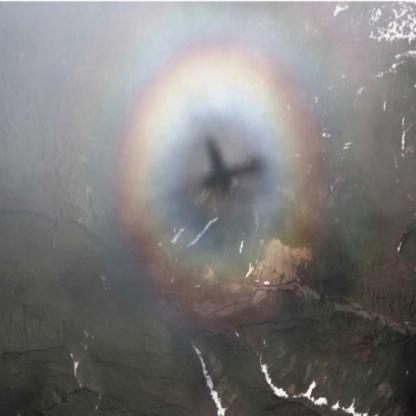CIV_Plane: (173, 125, 271, 223)
